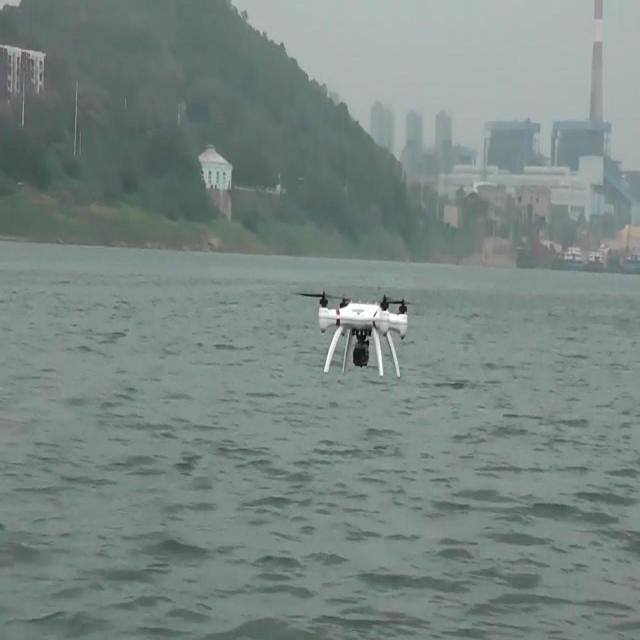drone: (292, 286, 419, 381)
